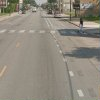crosswalk: (0, 29, 86, 33)
